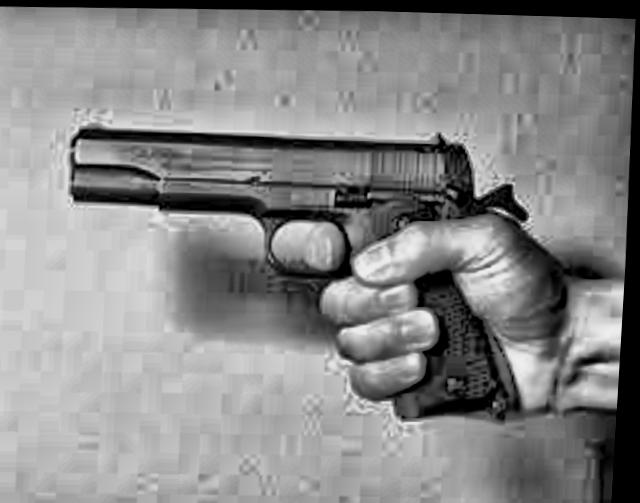pistol: (52, 99, 546, 426)
